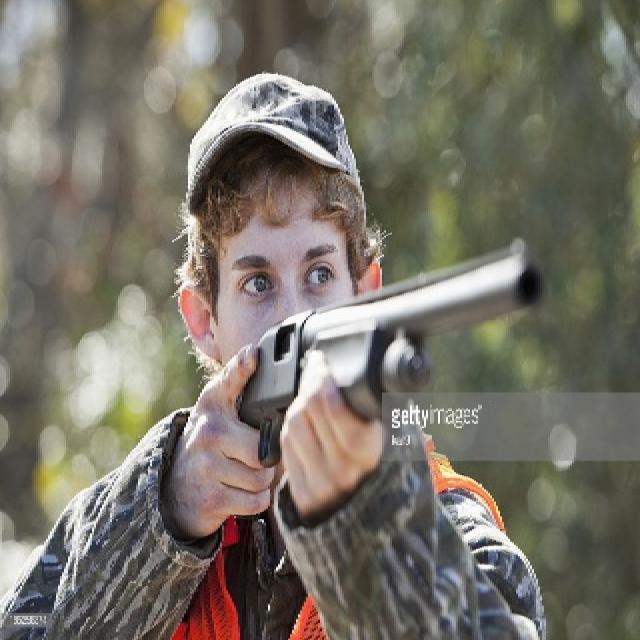weapon: (206, 239, 548, 475)
